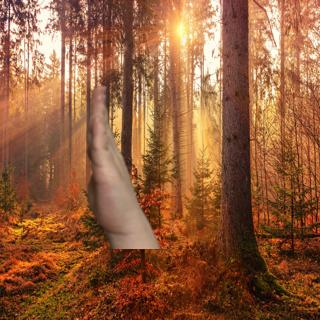RIGHT: (83, 84, 148, 235)
